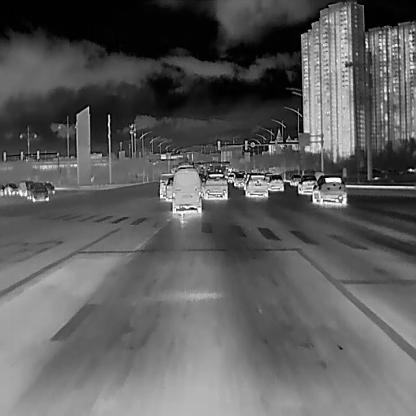car: (171, 167, 201, 213), (311, 174, 346, 205), (202, 171, 228, 199), (246, 173, 267, 196), (297, 175, 316, 193), (160, 173, 173, 198), (32, 185, 49, 202), (18, 180, 33, 198), (268, 174, 283, 190), (165, 177, 173, 201), (4, 182, 17, 196), (233, 173, 243, 186), (290, 174, 301, 184), (45, 182, 55, 193)
